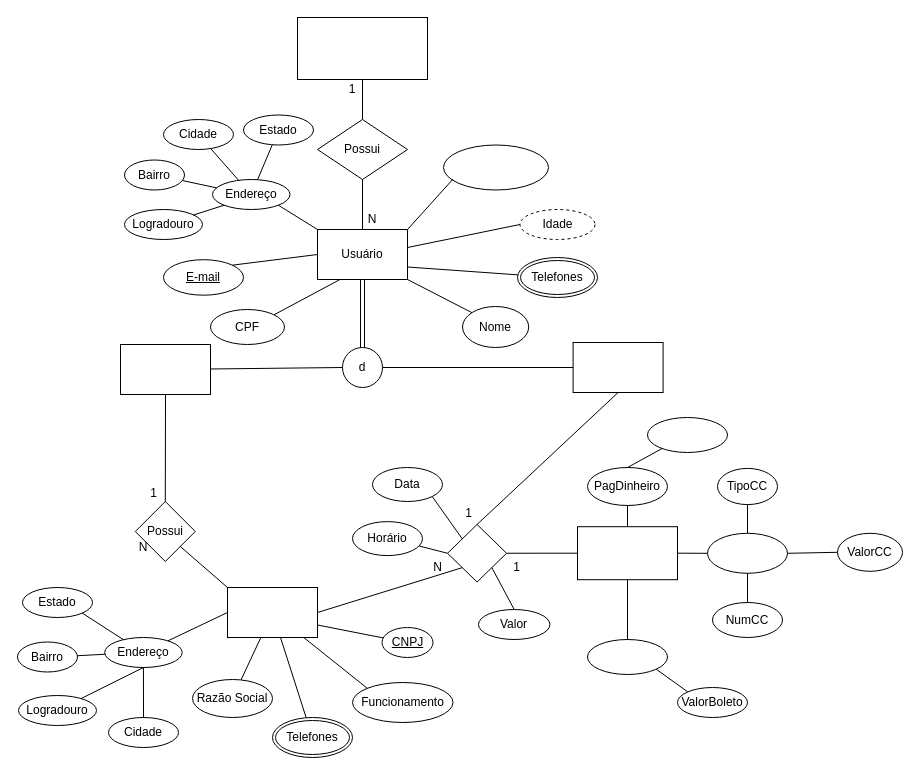
This 920x775 diagram has some shape labels left out. The centre of each missing label's shape, as x and y in pixels:
"Aluga" belongs at (x=476, y=553).
"Cliente" belongs at (x=617, y=367).
"Data Nascimento" belongs at (x=495, y=167).
"Fut Manager (sistema)" belongs at (x=362, y=48).
"Gestor" belongs at (x=165, y=369).
"Pagamento" belongs at (x=627, y=553).
"PagBoleto" belongs at (x=627, y=656).
"PagCartão" belongs at (x=747, y=552).
"Quadras" belongs at (x=272, y=612).
"ValorDinheiro" belongs at (x=687, y=434).
